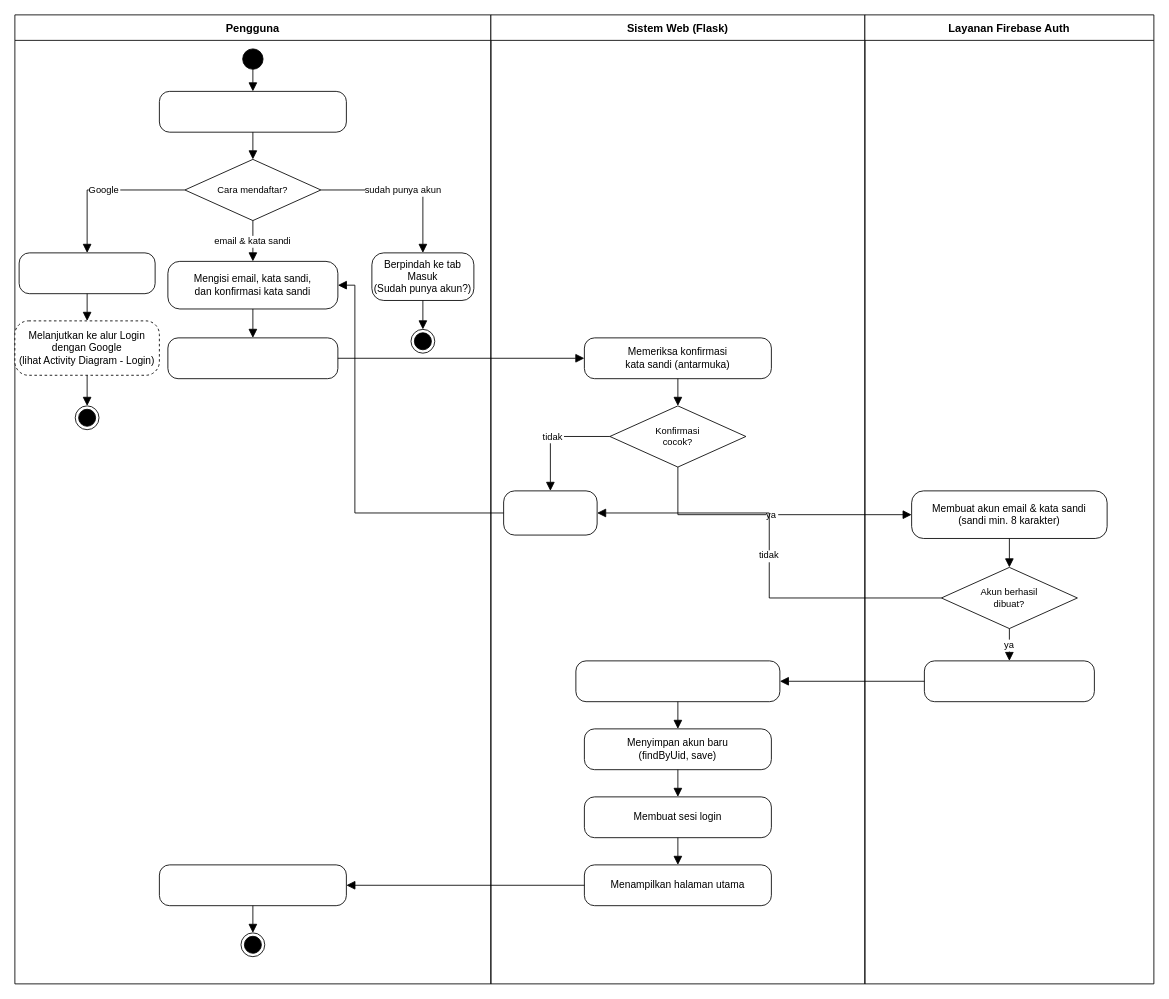
Some shapes in this 1169 by 999 pixel diagram are drawn without their labels. Each missing label, with the centre of its shape:
"Melihat halaman utama (studio analisis)" goes at (x=252, y=885).
"Membuka halaman Art_ku (tab Daftar)" goes at (x=252, y=111).
"Memilih Daftar dengan Google" goes at (x=86, y=273).
"Memverifikasi token ke Firebase (verifyToken)" goes at (x=677, y=681).
"Menampilkan pesan error" goes at (x=550, y=512).
"Menekan tombol Daftar" goes at (x=252, y=358).
"Mengirim ID token" goes at (x=1009, y=681).
